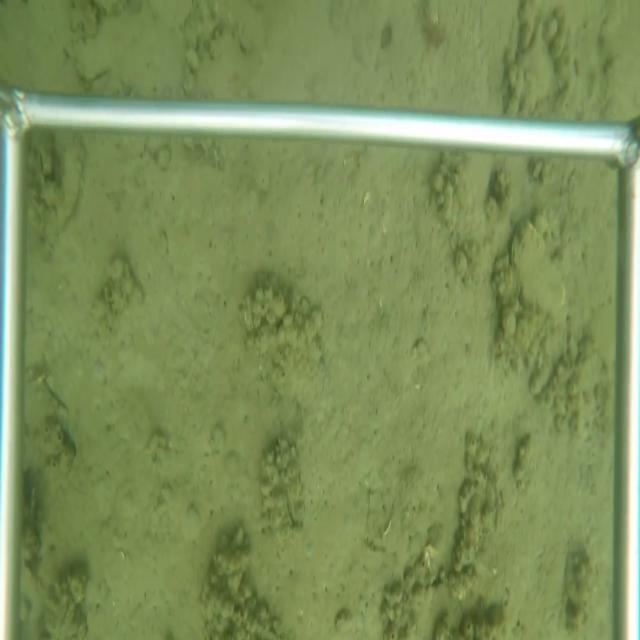Oyster-Closed: (507, 218, 567, 325), (68, 35, 112, 90)
Oyster-Indeterminate: (39, 141, 85, 250)
